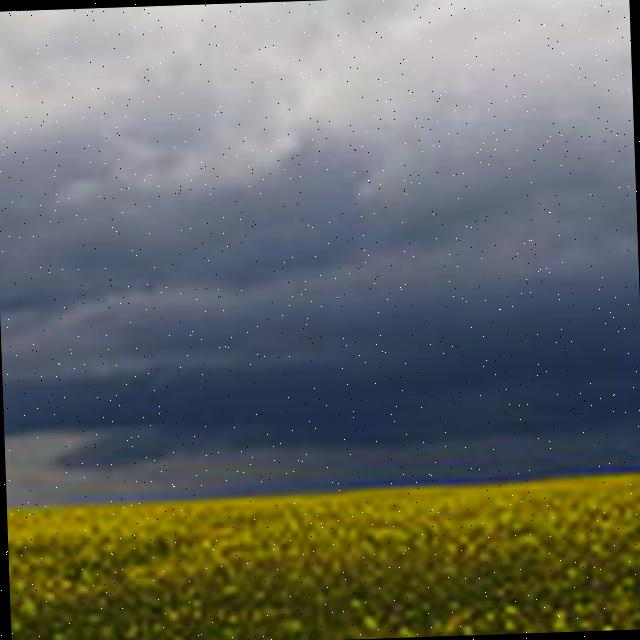As: (1, 37, 627, 474)
